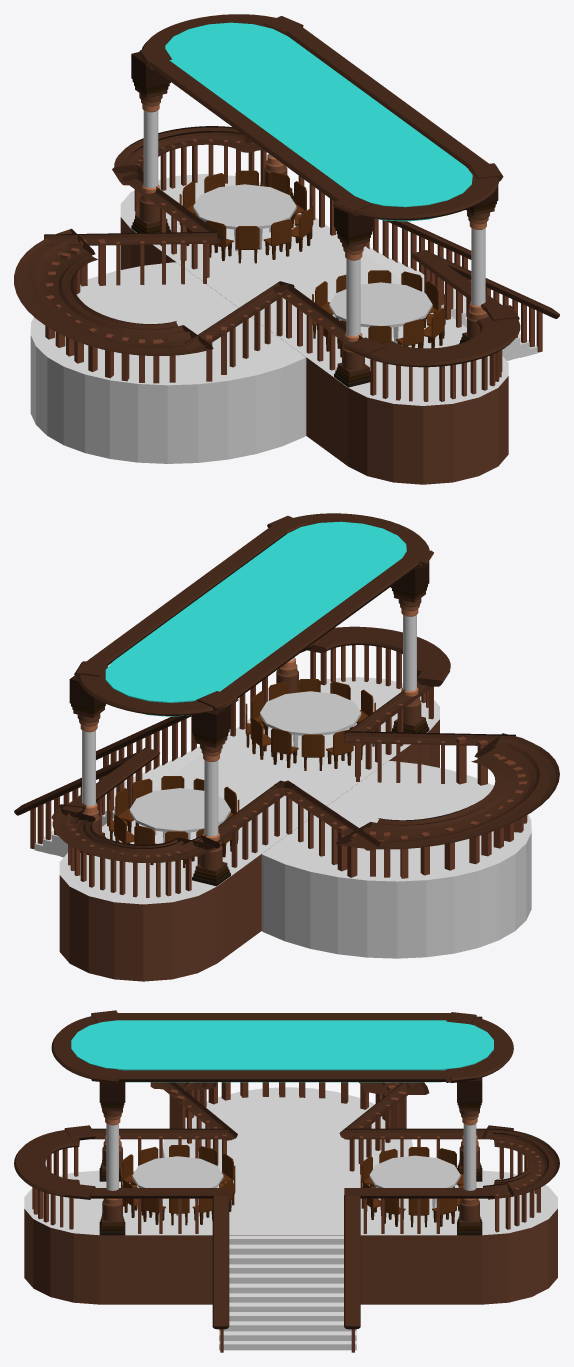
Rendered from Pavillion.gltf.
The picture shows the model from 3 angles, top to bottom: view 1: azimuth 30°, elevation 25°; view 2: azimuth 150°, elevation 25°; view 3: azimuth 270°, elevation 25°; orthographic projection. The views are drawn at different scales.
Parts seen in each view (by area): view 1: Cylinder, Cube_Cube.001, Cube.051_Cube, Cube.004_Cube.152, Cube.001_Cube.000_Cube.001_Cube.012, Cube.076_Cube.106, Cube.001_Cube.002, Cube.018_Cube.051, Cube.050_Cube.097, Cube.049_Cube.096, Cube.003_Cube.019, Cube.001_Cube.017 (+11 smaller); view 2: Cylinder, Cube_Cube.001, Cube.051_Cube, Cube.004_Cube.152, Cube.001_Cube.002, Cube.018_Cube.051, Cube.001_Cube.000_Cube.001_Cube.012, Cube.076_Cube.106, Cube.050_Cube.097, Cube.049_Cube.096, Cube.001_Cube.017, Cube.003_Cube.019 (+11 smaller); view 3: Cube_Cube.001, Cube.051_Cube, Cube.088_Cube.118, Cylinder, Cube.001_Cube.002, Cube.001_Cube.000_Cube.001_Cube.012, Cube.076_Cube.106, Cube.018_Cube.051, Cube.049_Cube.096, Cube.005_Cube.013, Cube.050_Cube.097, Cube.002_Cube.018 (+11 smaller).
Boxes of the visible parts, x1,y1,x2,y2 form: Cylinder: [30, 262, 306, 463]; Cube_Cube.001: [120, 173, 508, 484]; Cube.051_Cube: [165, 22, 472, 221]; Cube.004_Cube.152: [14, 228, 213, 381]; Cube.001_Cube.000_Cube.001_Cube.012: [179, 170, 313, 263]; Cube.076_Cube.106: [346, 305, 520, 401]; Cube.001_Cube.002: [312, 270, 445, 357]; Cube.018_Cube.051: [112, 126, 266, 215]; Cube.050_Cube.097: [149, 57, 359, 203]; Cube.049_Cube.096: [283, 24, 492, 170]; Cube.003_Cube.019: [334, 202, 373, 387]; Cube.001_Cube.017: [131, 52, 170, 232]; Cylinder: [261, 761, 531, 958]; Cube_Cube.001: [59, 677, 439, 981]; Cube.051_Cube: [105, 521, 406, 716]; Cube.004_Cube.152: [336, 733, 559, 878]; Cube.001_Cube.002: [245, 679, 375, 770]; Cube.018_Cube.051: [51, 804, 220, 897]; Cube.001_Cube.000_Cube.001_Cube.012: [109, 776, 239, 867]; Cube.076_Cube.106: [300, 626, 450, 719]; Cube.050_Cube.097: [216, 554, 421, 698]; Cube.049_Cube.096: [85, 522, 290, 665]; Cube.001_Cube.017: [192, 705, 230, 886]; Cube.003_Cube.019: [390, 561, 429, 732]; Cube_Cube.001: [24, 1170, 557, 1304]; Cube.051_Cube: [71, 1020, 493, 1082]; Cube.088_Cube.118: [219, 1235, 356, 1350]; Cylinder: [162, 1087, 412, 1170]; Cube.001_Cube.002: [121, 1145, 235, 1225]; Cube.001_Cube.000_Cube.001_Cube.012: [360, 1147, 463, 1227]; Cube.076_Cube.106: [14, 1125, 95, 1229]; Cube.018_Cube.051: [483, 1125, 559, 1232]; Cube.049_Cube.096: [109, 1070, 453, 1081]; Cube.005_Cube.013: [457, 1077, 482, 1235]; Cube.050_Cube.097: [109, 1013, 453, 1020]; Cube.002_Cube.018: [99, 1081, 125, 1235].
Bounding box in the file's own units: 38.68 × 19.74 × 42.79.
